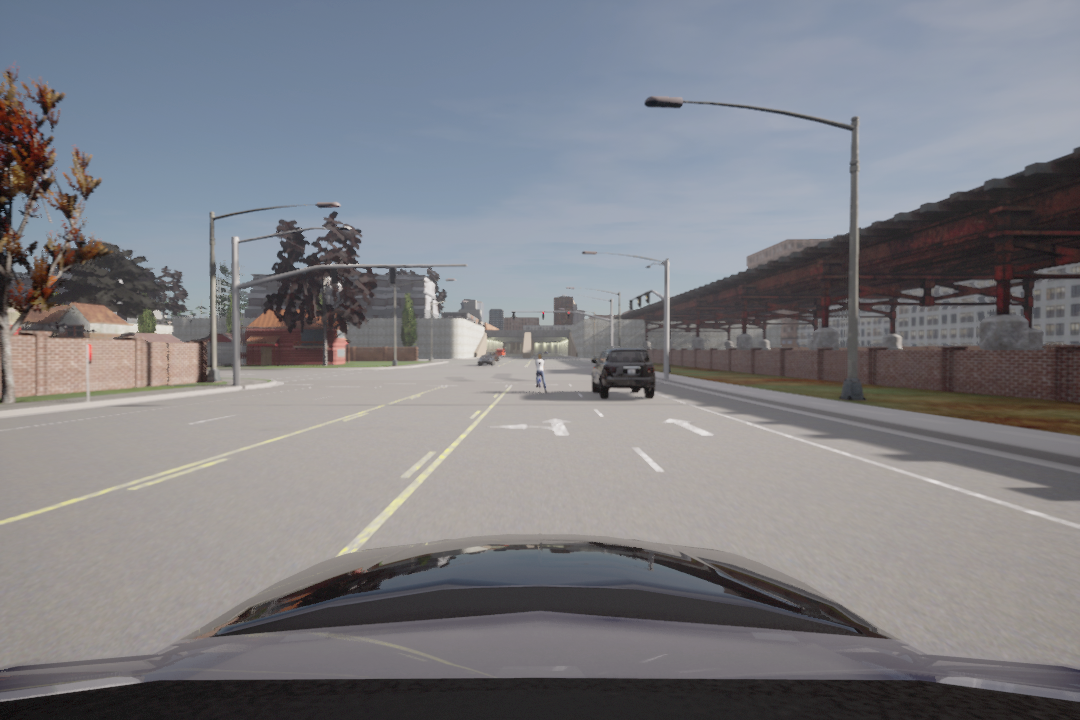RoadSign_forward: (653, 413, 710, 441)
RoadSign_forward_left: (486, 411, 587, 441)
